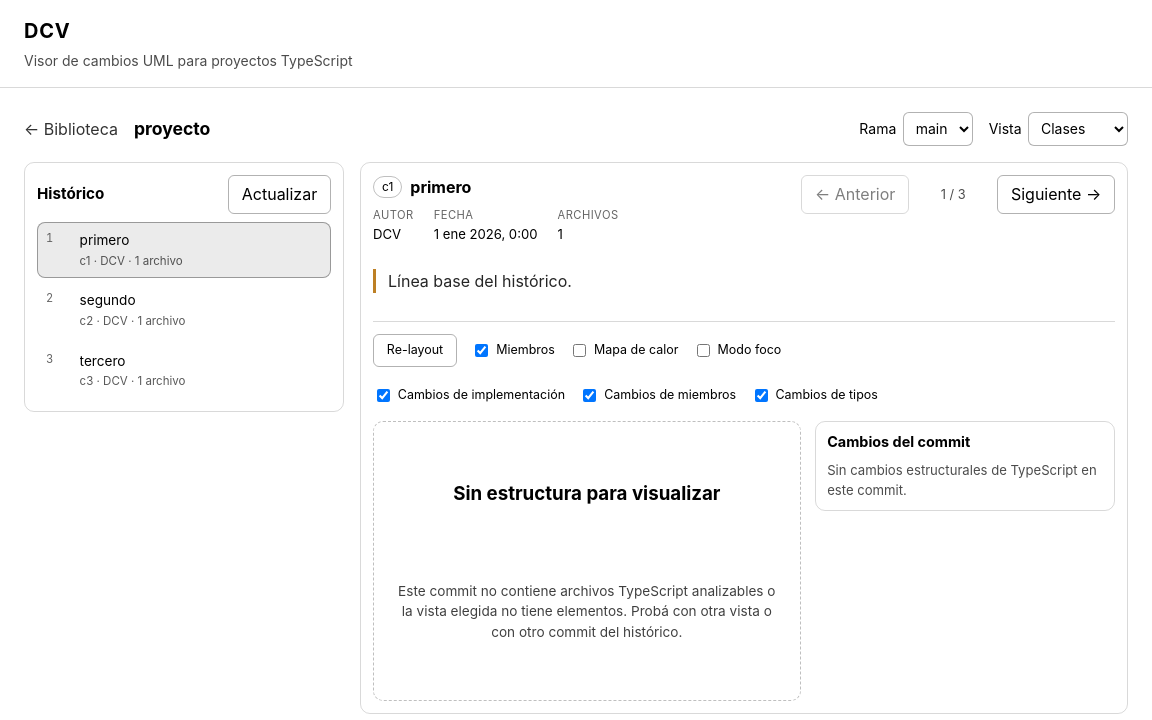
Test case: CommitPlayer › indica línea base y commits sin cambios estructurales
Expected: the text "Línea base del histórico." is shown, x1=373 y1=269 x2=785 y2=293
Click the button "Siguiente →". click: (1056, 194)
box: x1=997 y1=175 x2=1115 y2=214
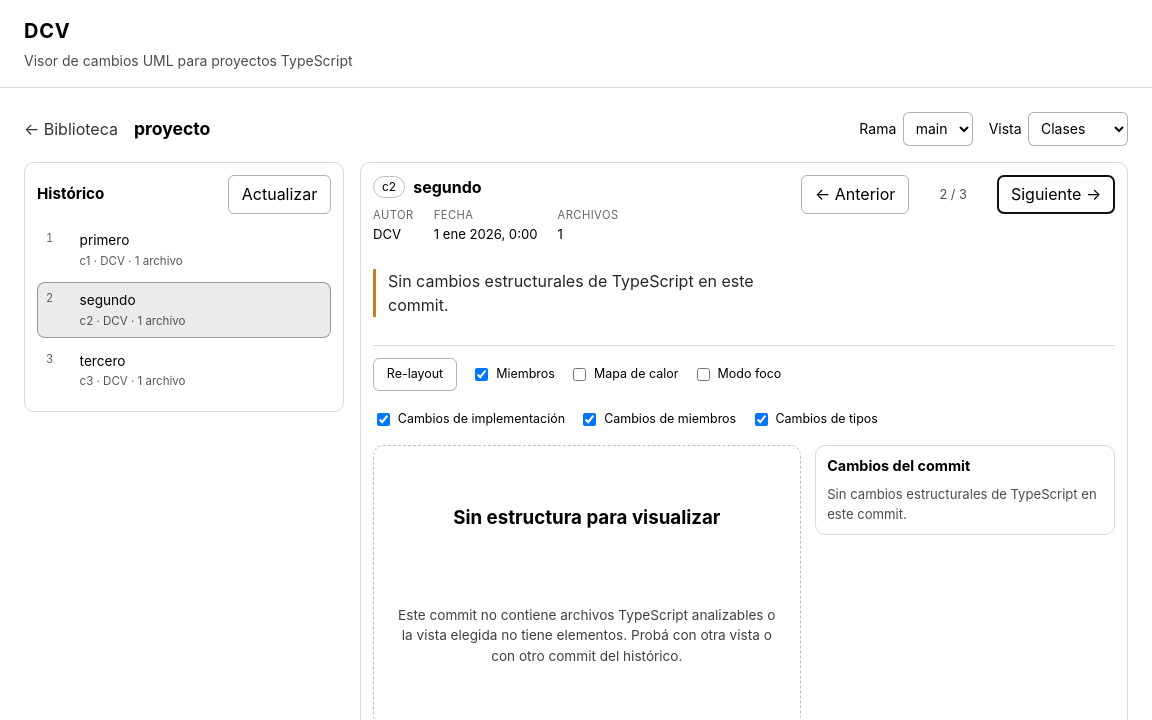
Expected: the text "Sin cambios estructurales de TypeScript en este commit." is shown, x1=373 y1=269 x2=785 y2=317
Click the button "Siguiente →". click: (1056, 194)
box: x1=997 y1=175 x2=1115 y2=214
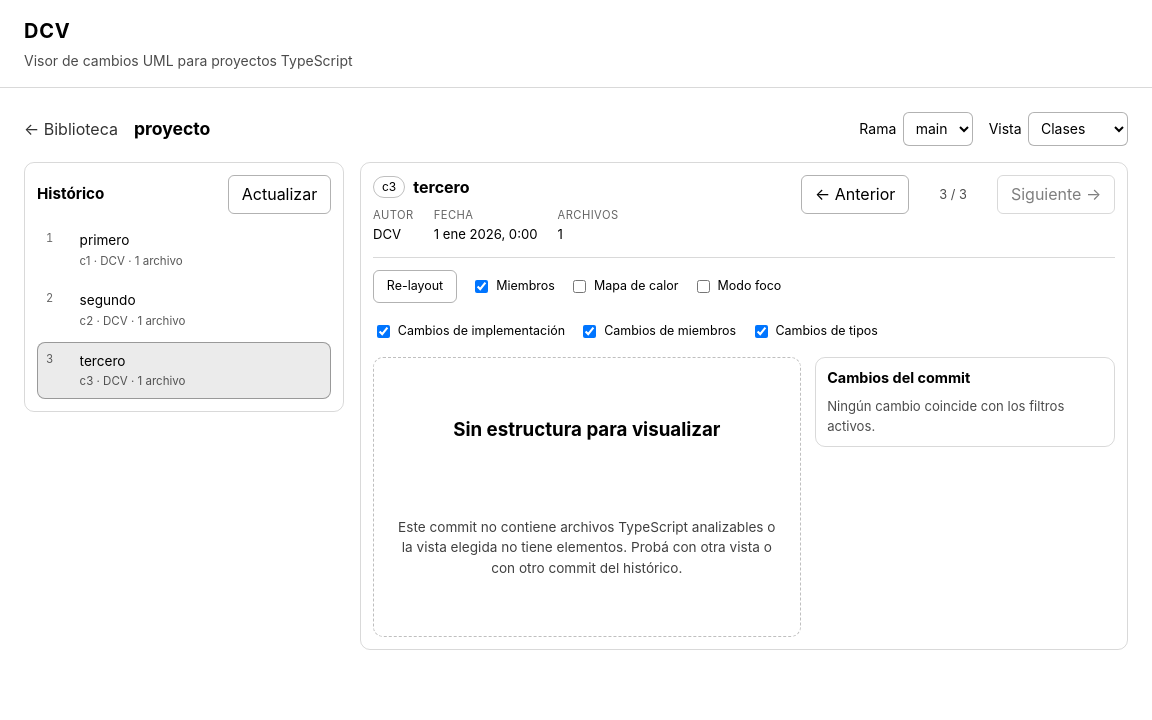
Expected: the heading "tercero" is shown, x1=413 y1=175 x2=470 y2=199
Expected: the text "Sin cambios estructurales de TypeScript en este commit." is not shown
